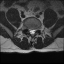CCS_normal: (31, 26, 33, 36)
LFS_normal: (35, 26, 38, 32)
LLS_normal: (33, 26, 35, 35)
RFS_normal: (27, 25, 29, 32)
RLS_normal: (29, 26, 31, 35)
